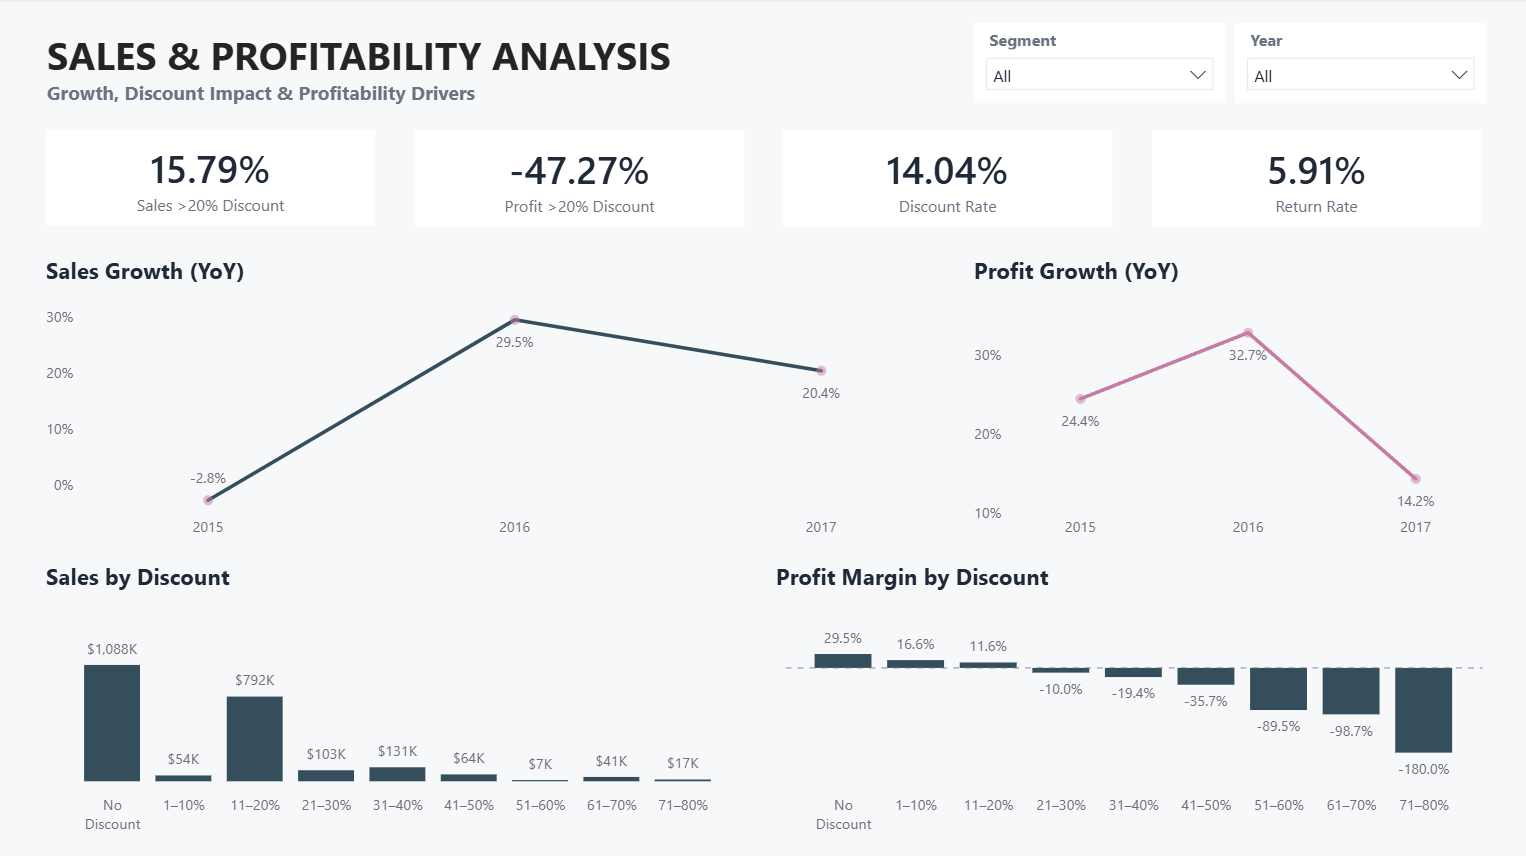

Layout of this report page (visuals, bound fields, positions):
{"tool":"powerbi","page":{"name":"Sales & Profitability","canvas":[1280,720],"ordinal":1},"visuals":[{"type":"textbox","box":[35.6,20,650,85.9],"z":0},{"type":"cardVisual","fields":{"Data":["Measure.Sales Above 20% Discount %"]},"box":[35,105,285,90],"z":1000},{"type":"cardVisual","fields":{"Data":["Measure.Profit Above 20% Discount %"]},"box":[343,106,285,90],"z":2000},{"type":"cardVisual","fields":{"Data":["Measure.Discount Rate %"]},"box":[651,106,285,90],"z":3000},{"type":"cardVisual","fields":{"Data":["Measure.Return Rate %"]},"box":[959,106,285,90],"z":4000},{"type":"lineChart","title":"Sales Growth (YoY)","fields":{"Category":["DimDate.Year"],"Y":["Measure.YoY Sales Growth %"]},"box":[35,215,760,245],"z":5000},{"type":"lineChart","title":"Profit Growth (YoY)","fields":{"Category":["DimDate.Year"],"Y":["Measure.YoY Profit Growth %"]},"box":[810,215,435,245],"z":6000},{"type":"clusteredColumnChart","title":"Sales by Discount","fields":{"Category":["FactSales.Discount Band"],"Y":["Measure.Total Sales"]},"box":[35,470,590,235],"z":7000},{"type":"clusteredColumnChart","title":"Profit Margin by Discount","fields":{"Category":["FactSales.Discount Band"],"Y":["Measure.Profit Margin"]},"box":[645,470.3,600,235],"z":8000},{"type":"slicer","fields":{"Values":["DimDate.Year"]},"box":[1033.3,20.5,210.3,66.7],"z":9000},{"type":"slicer","fields":{"Values":["DimCustomer.Segment"]},"box":[815.3,20.8,209.7,66.7],"z":10000}]}

Visuals, with their boxes in screenshot pixels (x1, y1, x2, y2), scaled from the page's 1280x720 canvas onto the 1526x856 screenshot:
textbox: BBox(42, 24, 817, 126)
cardVisual - Measure.Sales Above 20% Discount %: BBox(42, 125, 382, 232)
cardVisual - Measure.Profit Above 20% Discount %: BBox(409, 126, 749, 233)
cardVisual - Measure.Discount Rate %: BBox(776, 126, 1116, 233)
cardVisual - Measure.Return Rate %: BBox(1143, 126, 1483, 233)
"Sales Growth (YoY)" lineChart: BBox(42, 256, 948, 547)
"Profit Growth (YoY)" lineChart: BBox(966, 256, 1484, 547)
"Sales by Discount" clusteredColumnChart: BBox(42, 559, 745, 838)
"Profit Margin by Discount" clusteredColumnChart: BBox(769, 559, 1484, 839)
slicer - DimDate.Year: BBox(1232, 24, 1483, 104)
slicer - DimCustomer.Segment: BBox(972, 25, 1222, 104)
